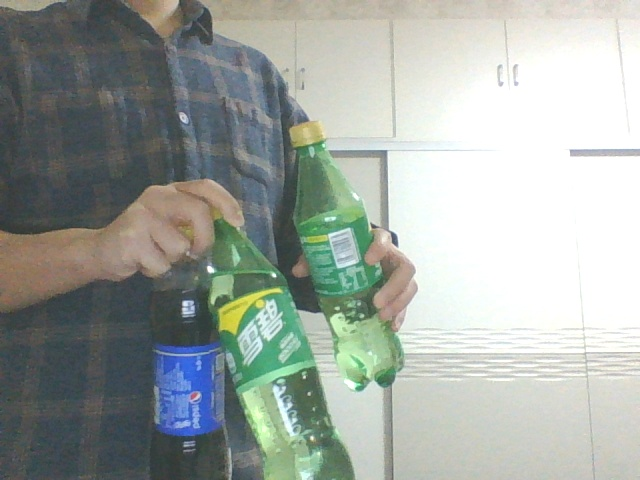Cola: (149, 226, 231, 478)
Sprite: (206, 208, 356, 477), (288, 120, 406, 391)
